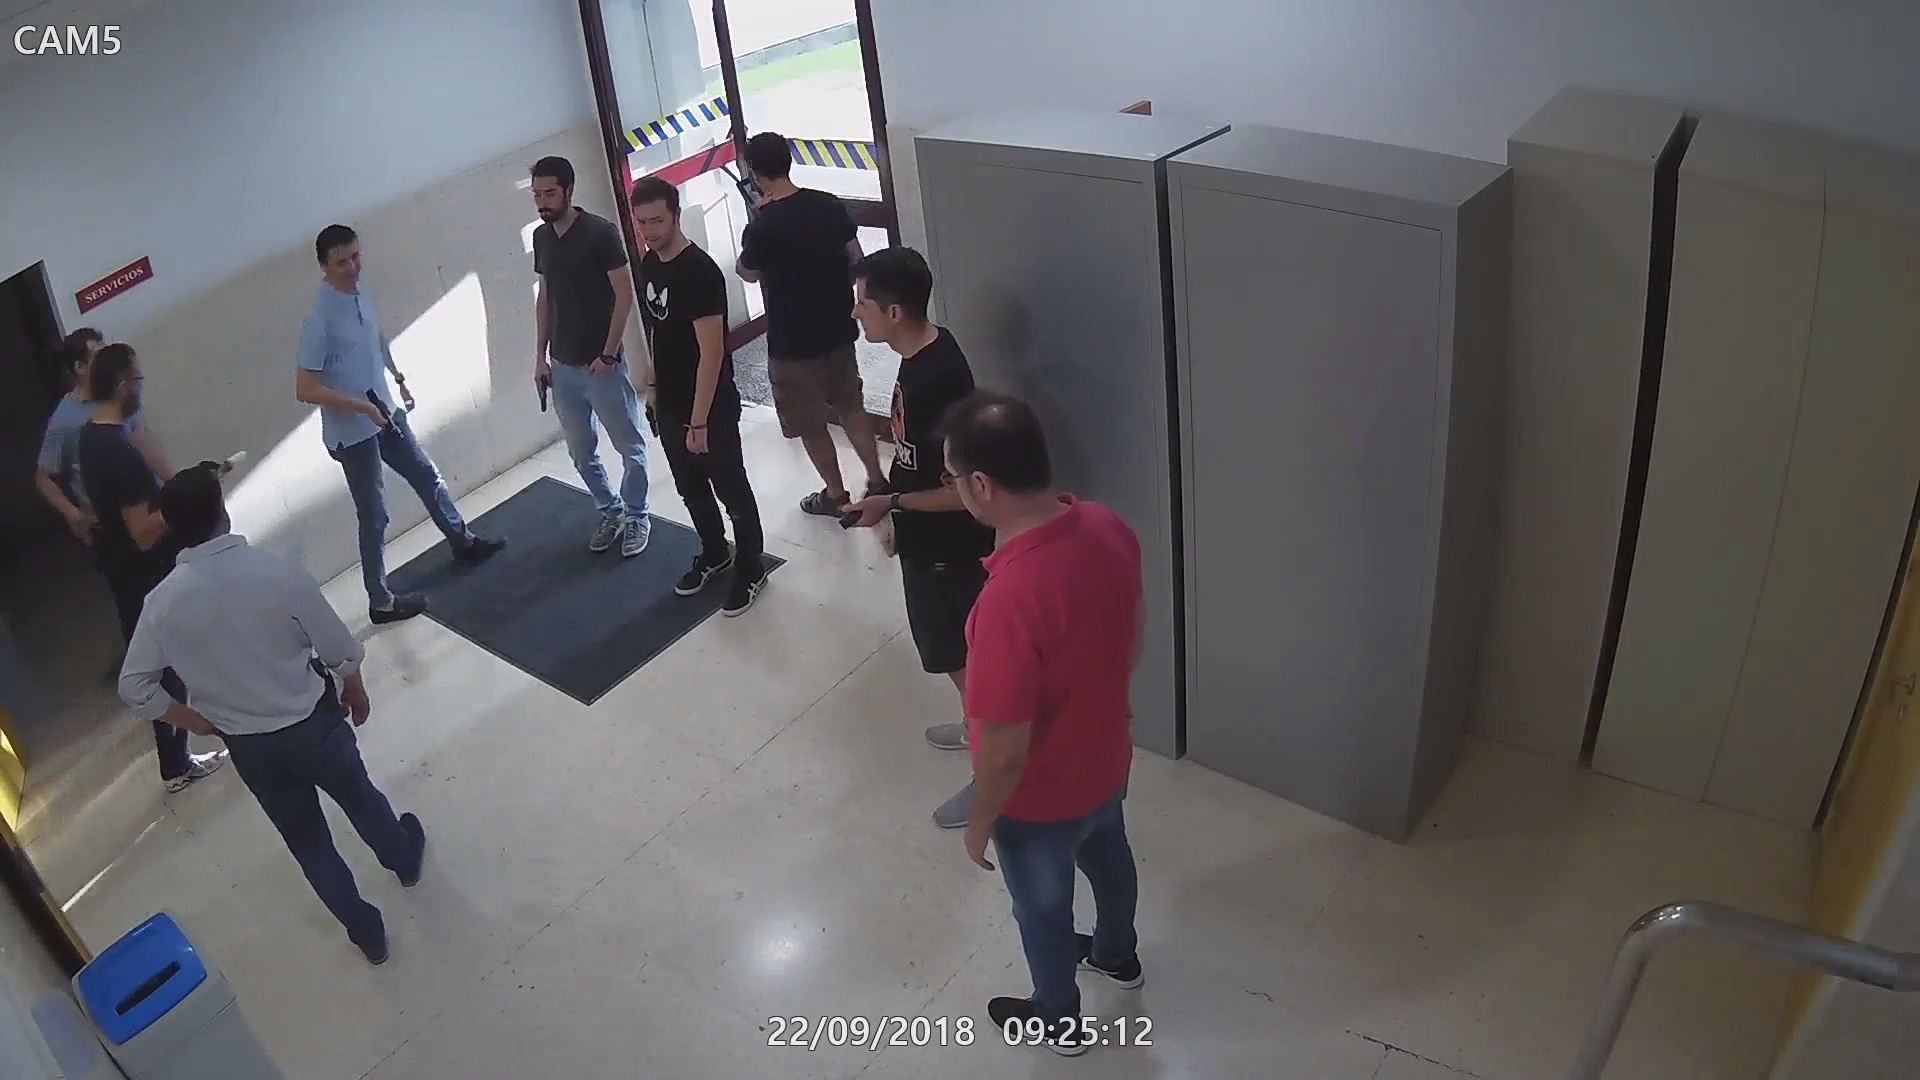Handgun: (833, 483, 901, 534), (309, 653, 343, 721), (637, 384, 662, 442), (530, 363, 556, 415)
